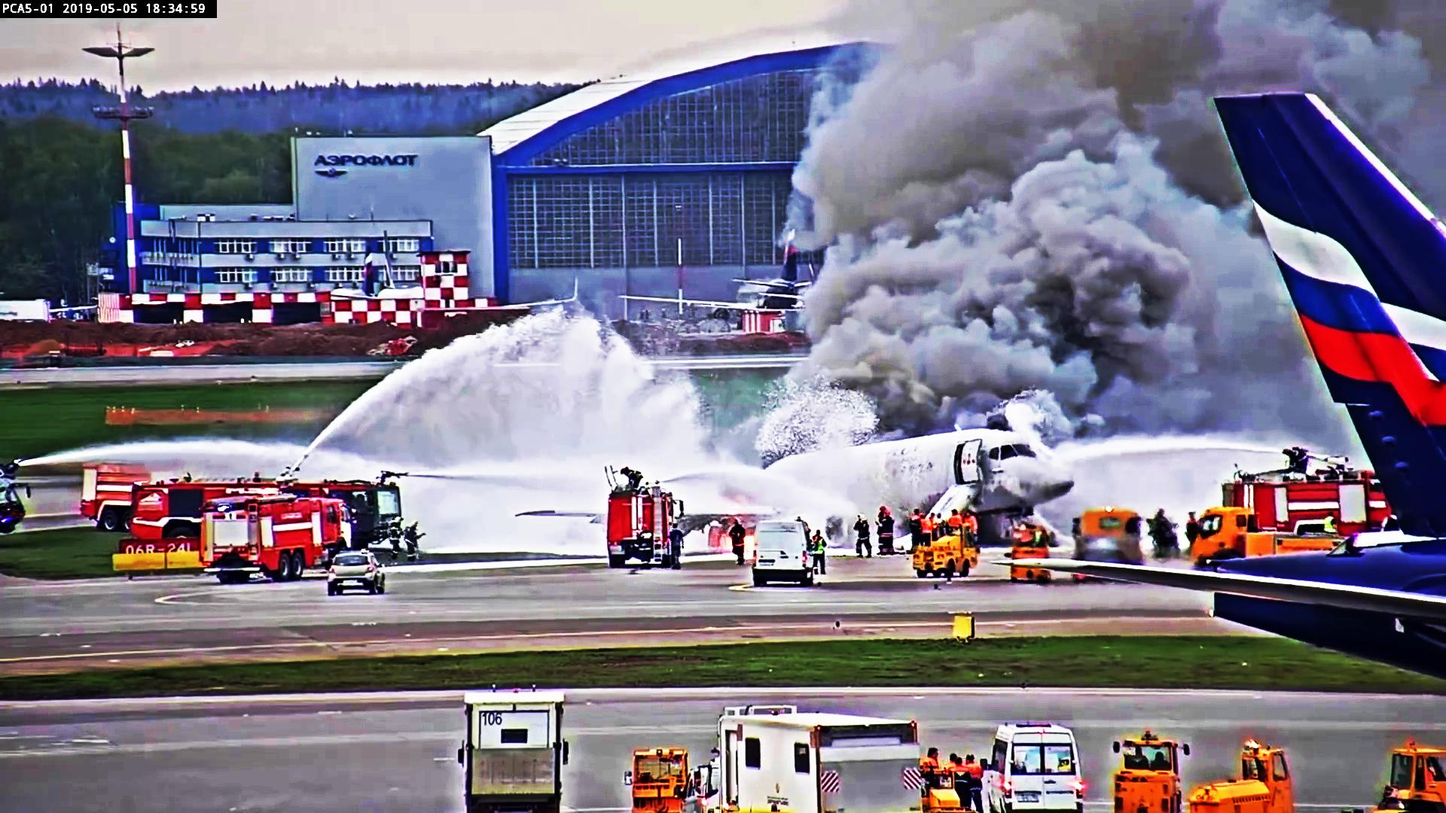smoke: (792, 0, 1141, 366)
